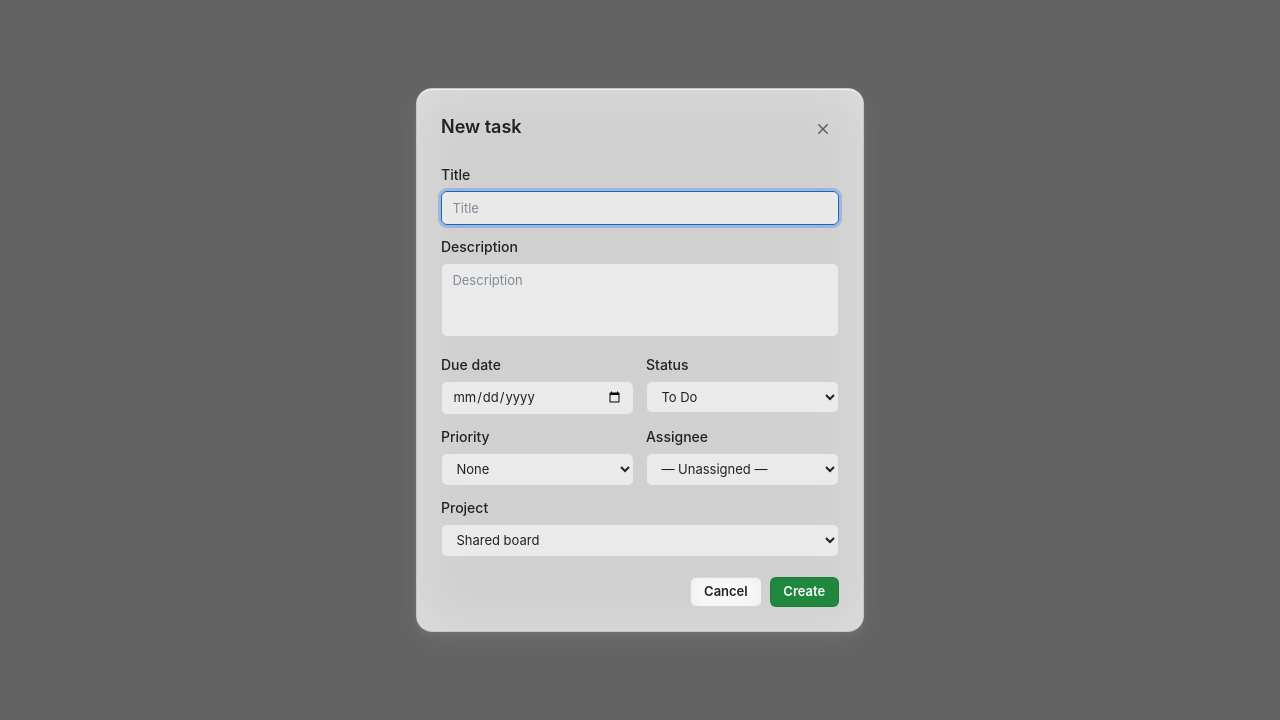
Test: TaskModal › displays error message
Type "Task" into the field labelled "Title". click: x=640, y=208
box: [441,191,839,225]
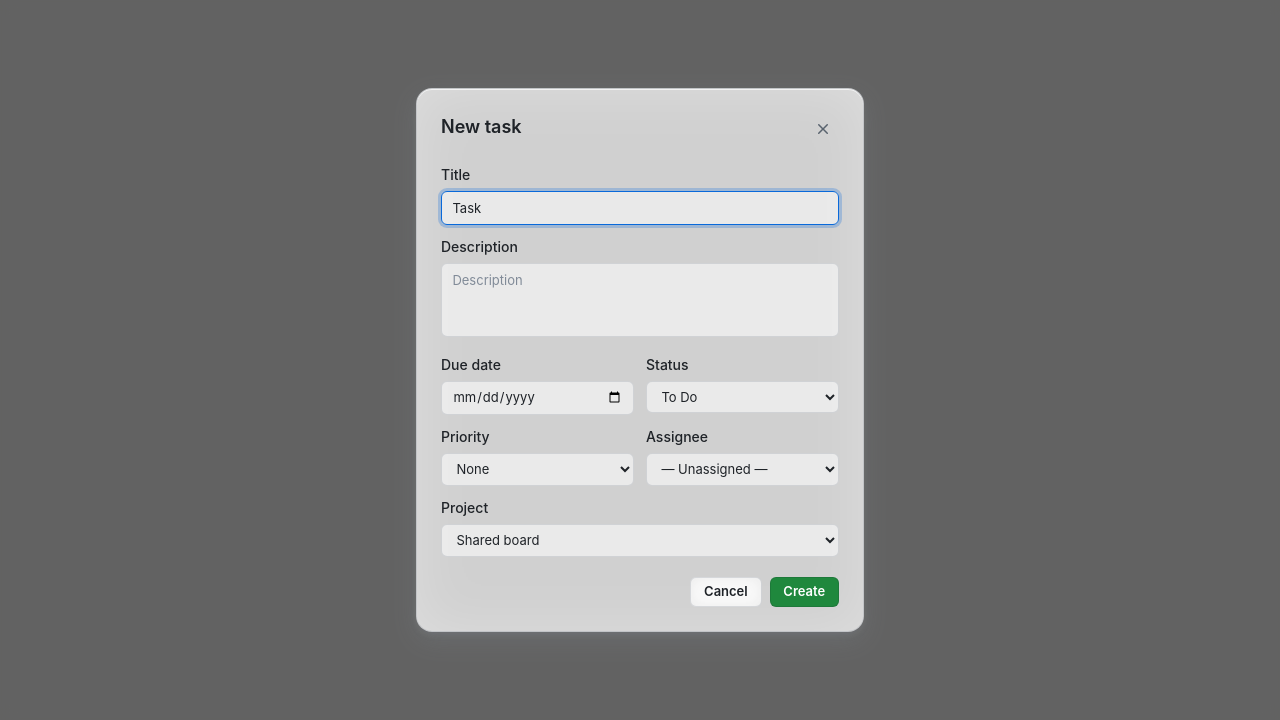
Click the button "Create". click: x=804, y=592
box: [770,576,839,607]
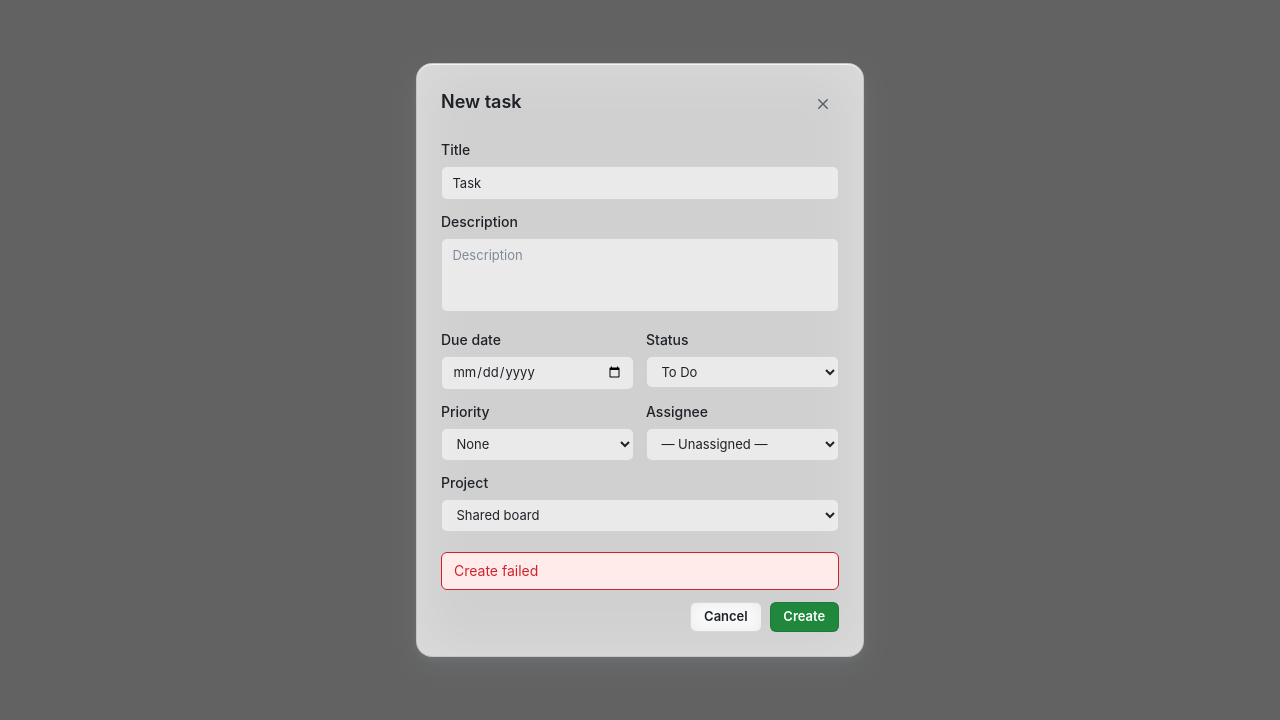
Check: the text "Create failed" is shown, box [441,552,839,590]
